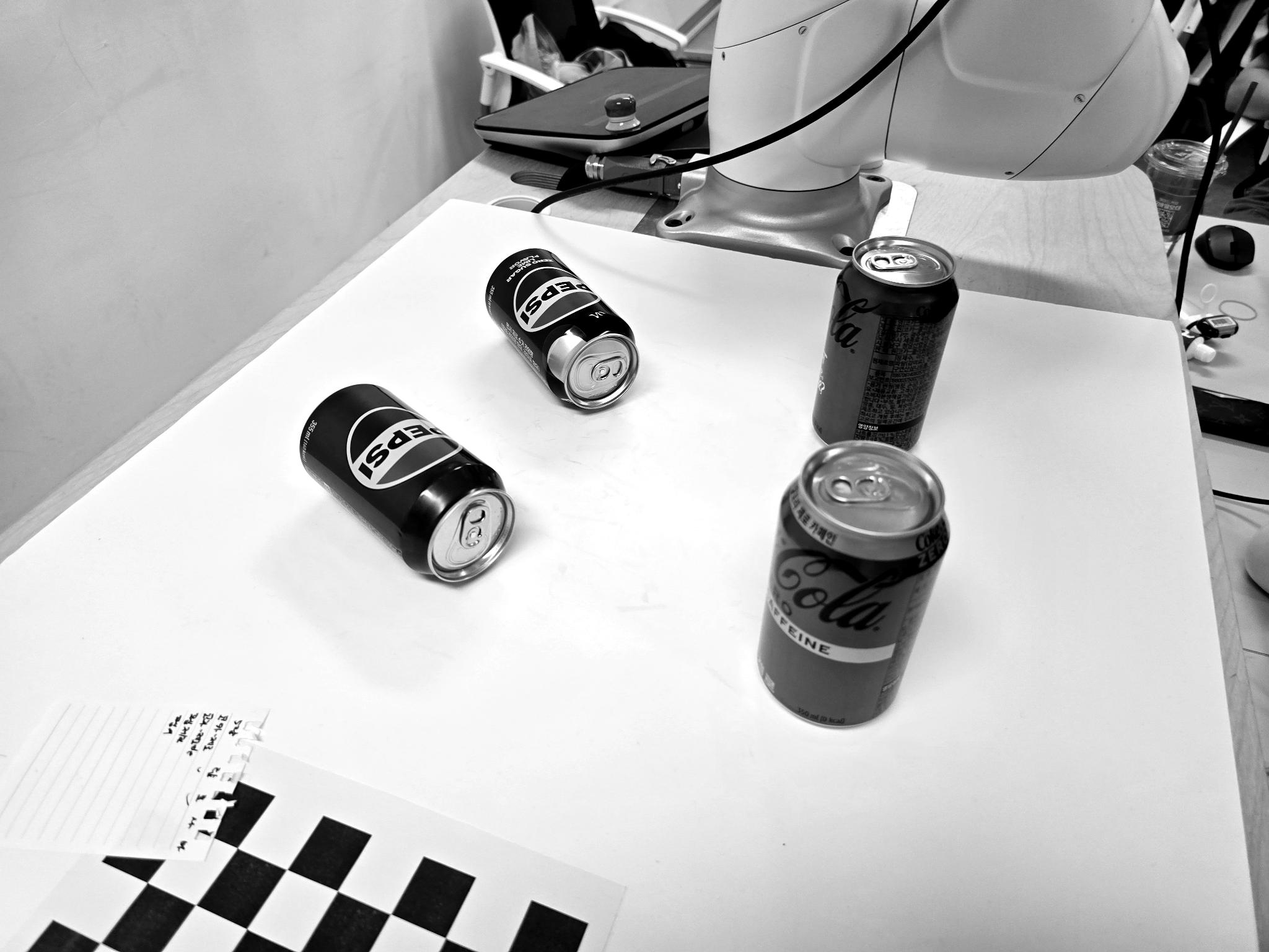can_coke_decaf: (758, 441, 949, 726)
can_coke_zero: (812, 238, 958, 449)
can_pepsi: (299, 384, 515, 582)
can_pepsi_zero: (485, 248, 639, 409)
